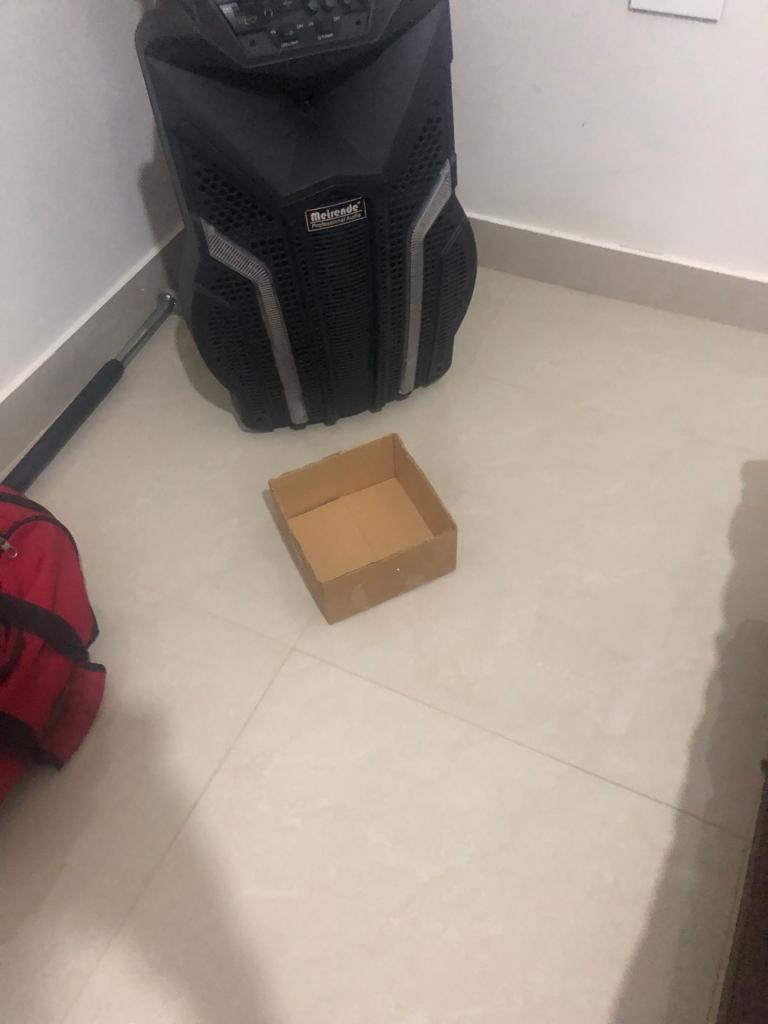CBox: (261, 428, 466, 632)
